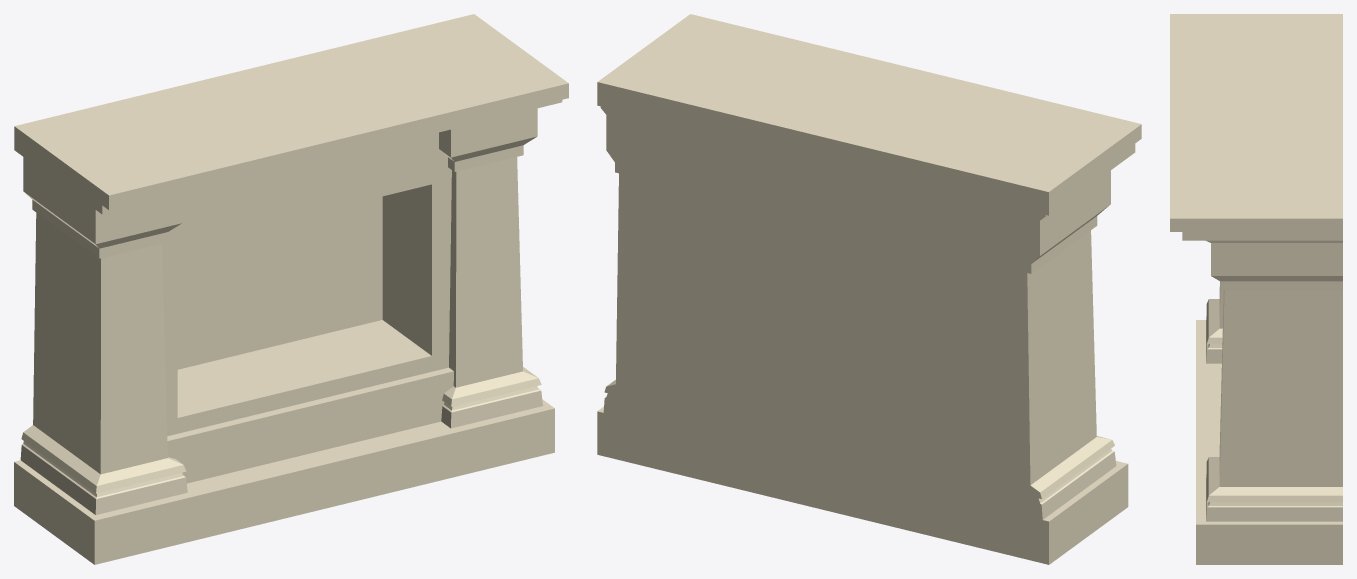
Rendered from fireplace.glb.
3 views of the same model, side by side, from view 1: azimuth 30°, elevation 25°; view 2: azimuth 150°, elevation 25°; view 3: azimuth 270°, elevation 25° (orthographic). The views are drawn at different scales.
Parts seen in each view (by area): view 1: Fireplace; view 2: Fireplace; view 3: Fireplace.
Part boxes in pixels (bbox=[...]): Fireplace: bbox=[14, 14, 568, 564]; Fireplace: bbox=[597, 14, 1141, 564]; Fireplace: bbox=[1170, 14, 1342, 564].
Bounding box in the file's own units: 3.25 × 2.56 × 1.16.
